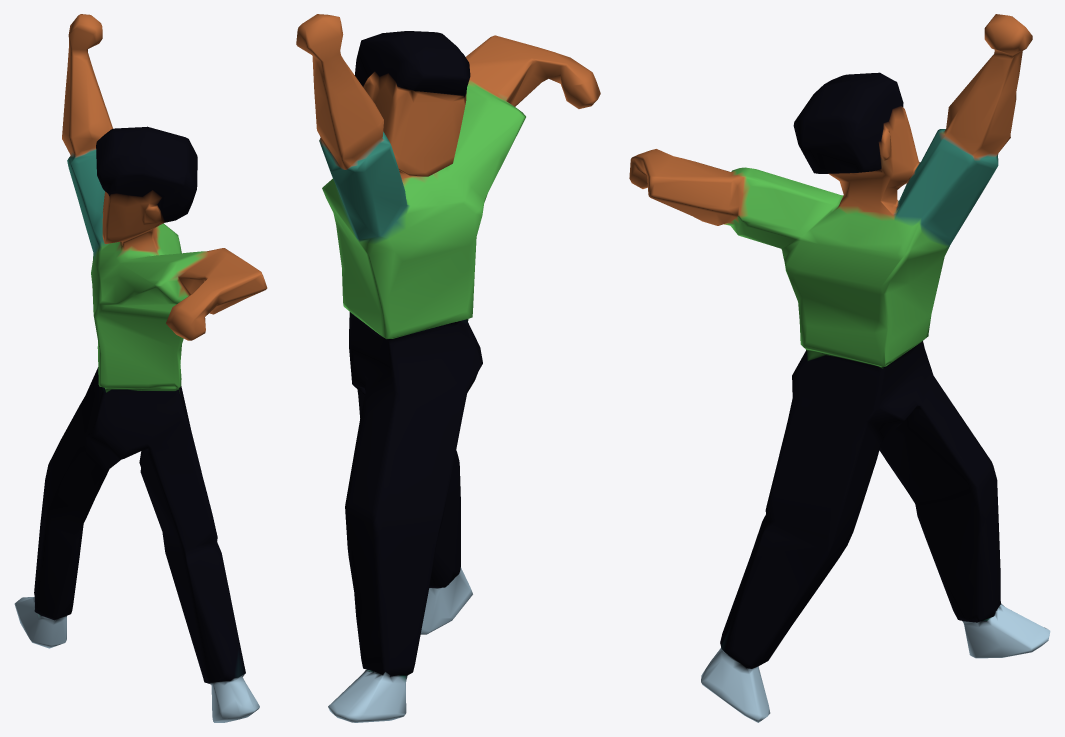
File: gen3d-dance-lod0.glb
3 renders of one model, left to right at view 1: azimuth 30°, elevation 25°; view 2: azimuth 150°, elevation 25°; view 3: azimuth 270°, elevation 25°, orthographic. The views are drawn at different scales.
Parts seen in each view (by area): view 1: part_0; view 2: part_0; view 3: part_0.
Part boxes in pixels (x1=…): part_0: x1=14, y1=14, x2=267, y2=722; part_0: x1=296, y1=14, x2=600, y2=722; part_0: x1=629, y1=14, x2=1050, y2=722.
Bounding box in the file's own units: 0.2193 × 0.9991 × 0.5586.
